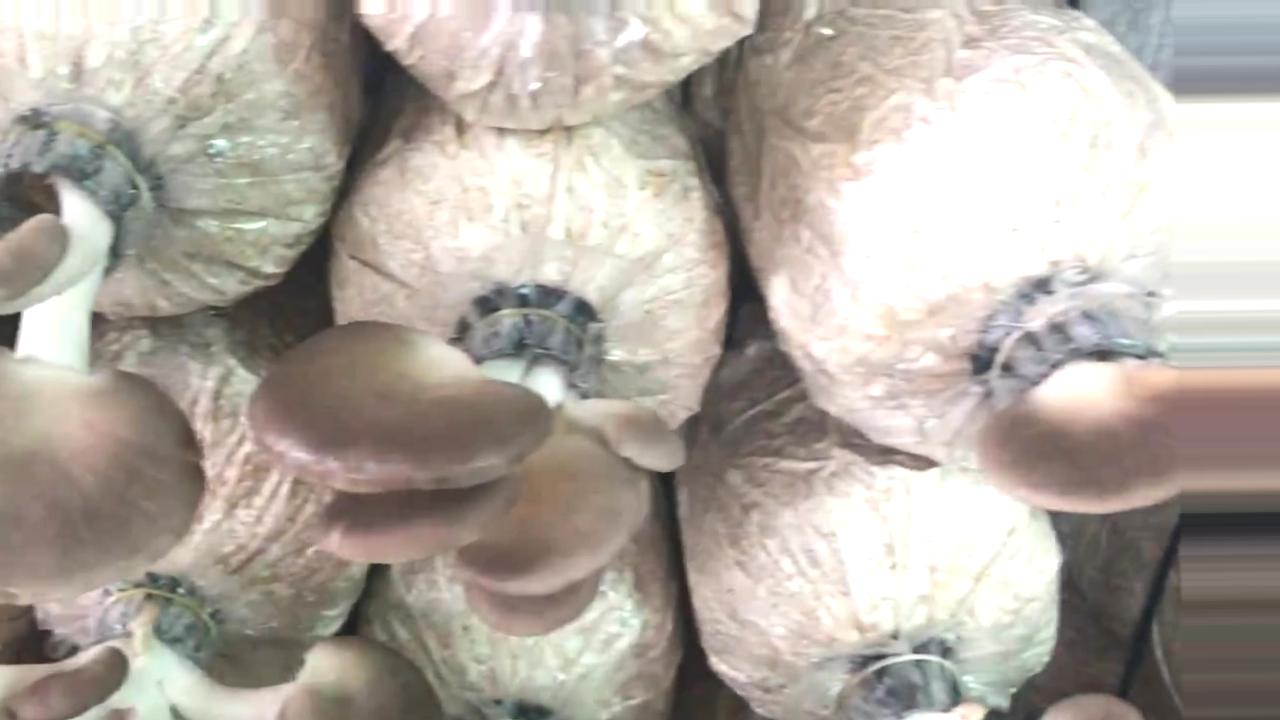nam: (248, 300, 695, 638), (1, 102, 209, 606), (978, 289, 1280, 516), (11, 584, 446, 720)
